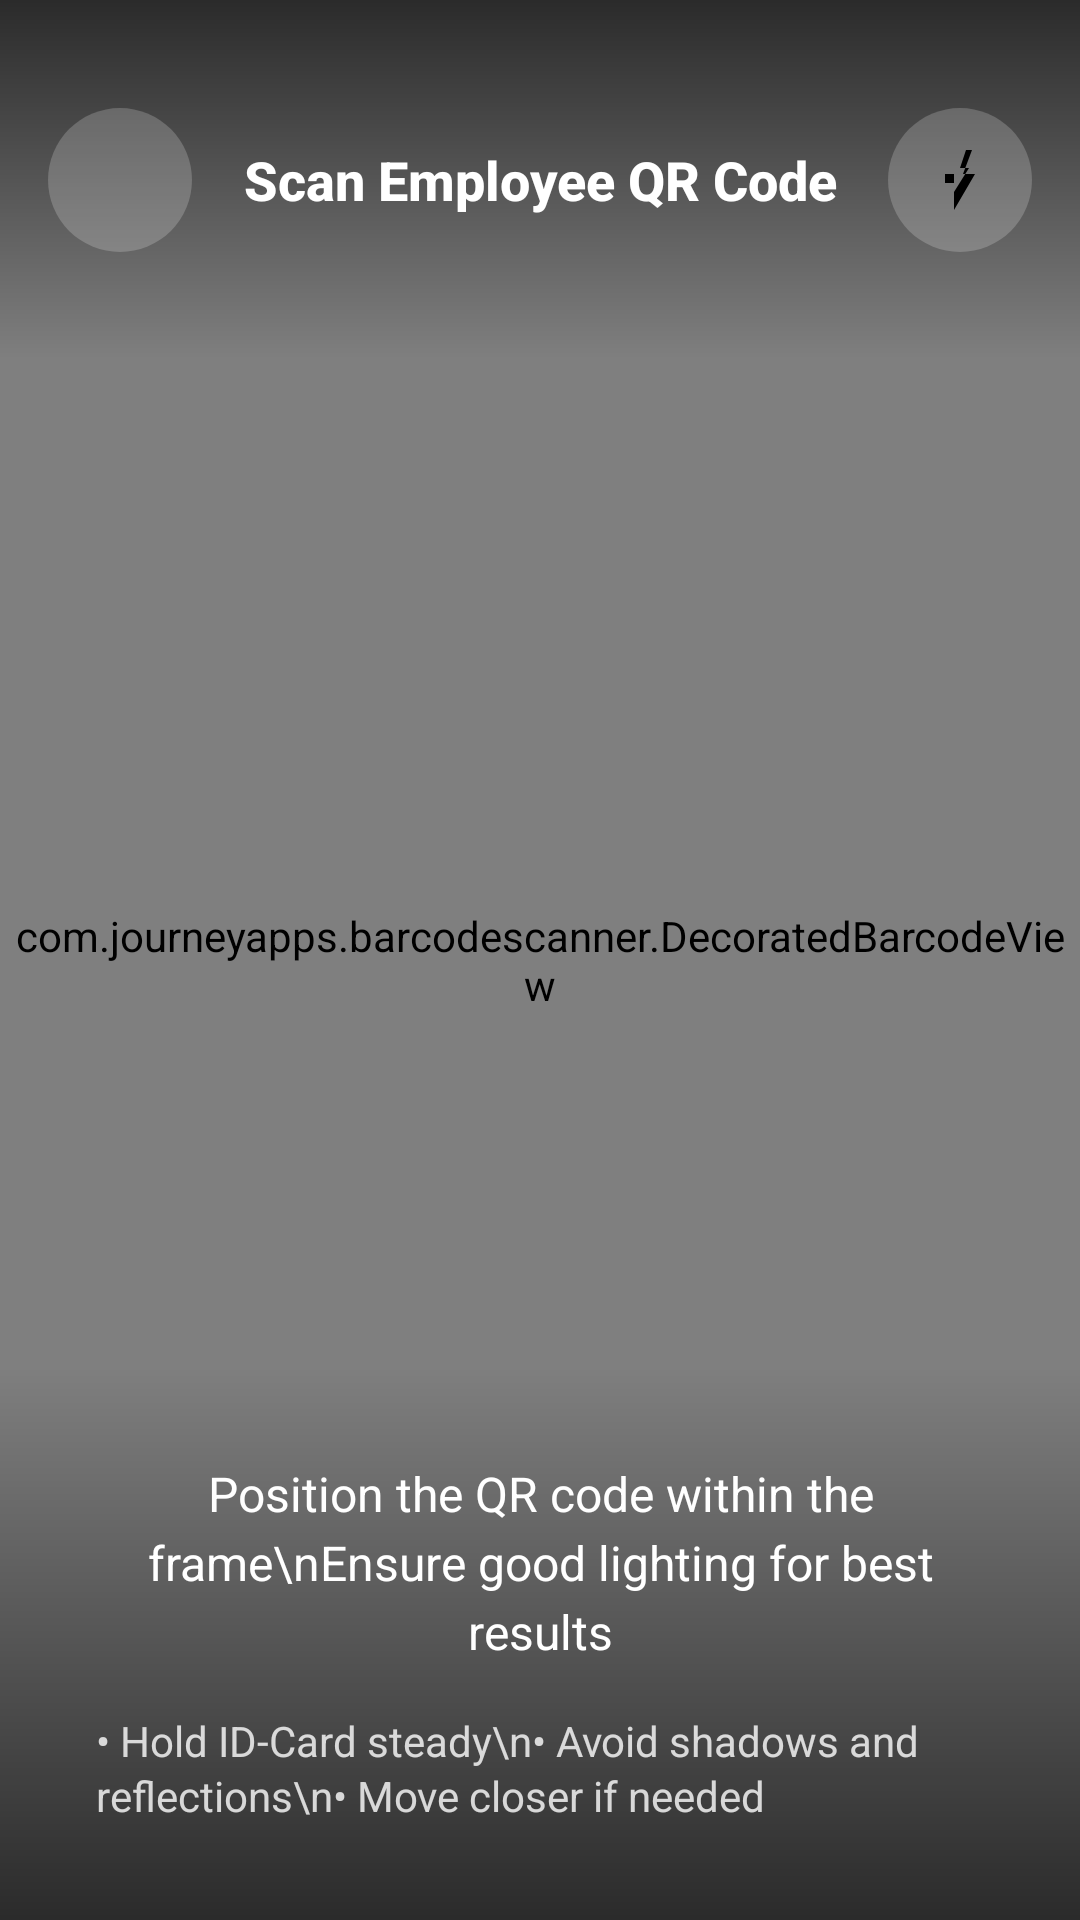

Icon click points for this 1080 × 1920 phone screenshot, format [x,y]:
flash off: [960,180]
